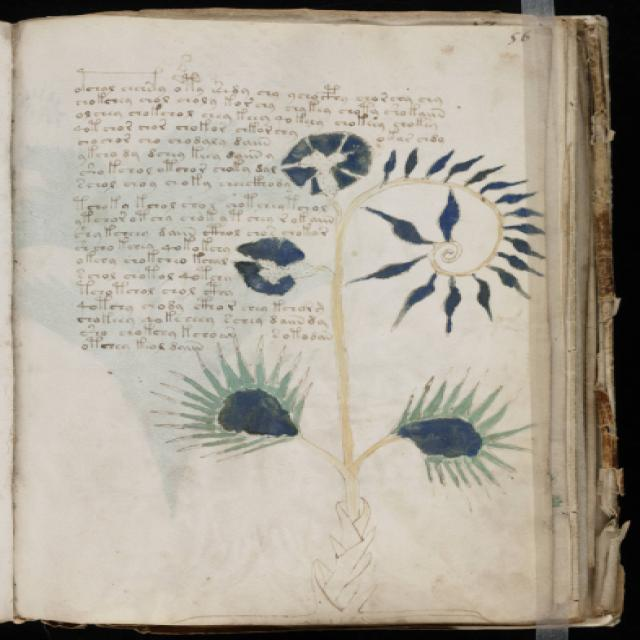plant: (145, 128, 547, 624)
